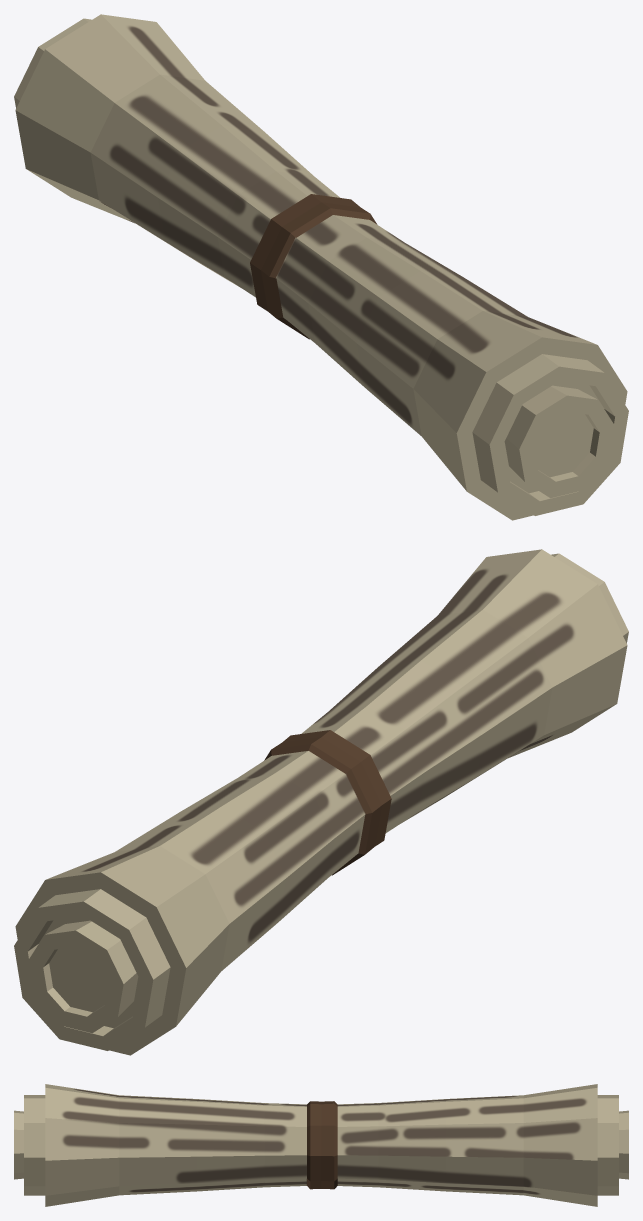
Rendered from newsletter.fbx.
The picture shows the model from 3 angles, top to bottom: view 1: azimuth 30°, elevation 25°; view 2: azimuth 150°, elevation 25°; view 3: azimuth 270°, elevation 25°; orthographic projection. The views are drawn at different scales.
Parts seen in each view (by area): view 1: newsletter; view 2: newsletter; view 3: newsletter.
Boxes of the visible parts, bbox=[...] form: newsletter: bbox=[14, 14, 628, 520]; newsletter: bbox=[14, 549, 628, 1055]; newsletter: bbox=[14, 1084, 628, 1206].
Size of the model in its own units: 111 by 109 by 553.
